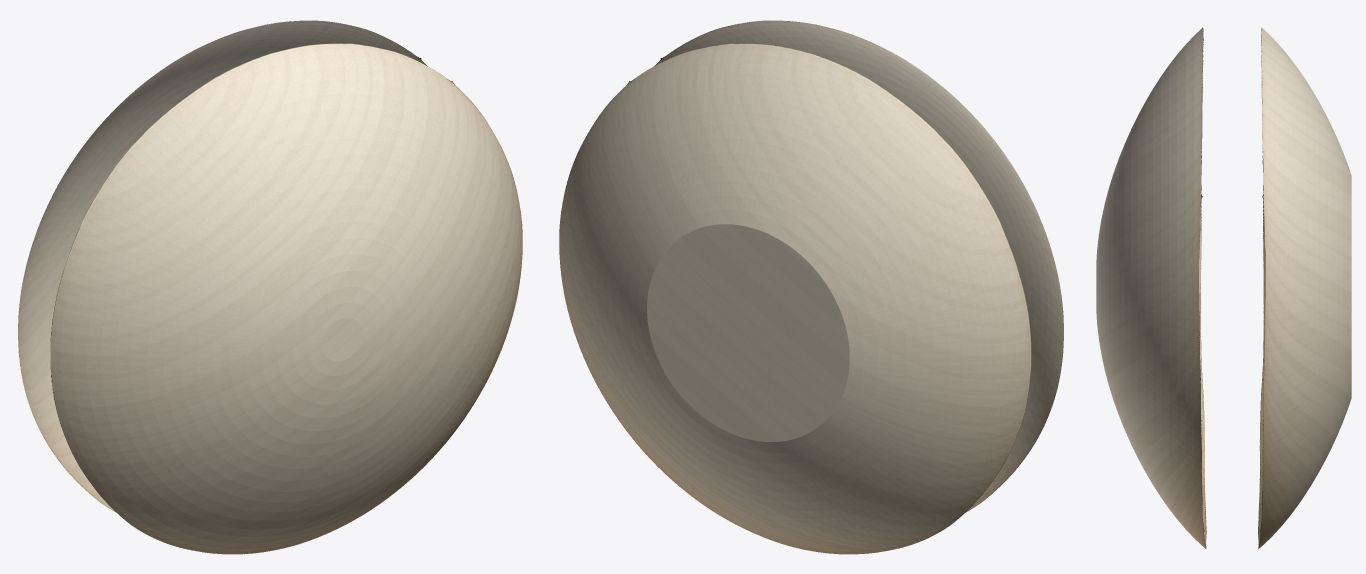
The model's file is stone_textured.dae.
The picture shows the model from 3 angles, left to right: view 1: azimuth 30°, elevation 25°; view 2: azimuth 150°, elevation 25°; view 3: azimuth 270°, elevation 25°; orthographic projection. The views are drawn at different scales.
Parts seen in each view (by area): view 1: Stone_Standard; view 2: Stone_Standard; view 3: Stone_Standard.
Part boxes in pixels (bbox=[...]): Stone_Standard: bbox=[18, 20, 522, 554]; Stone_Standard: bbox=[559, 20, 1063, 554]; Stone_Standard: bbox=[1096, 27, 1351, 548].
Size of the model in its own units: 22 by 10.3 by 21.99.
